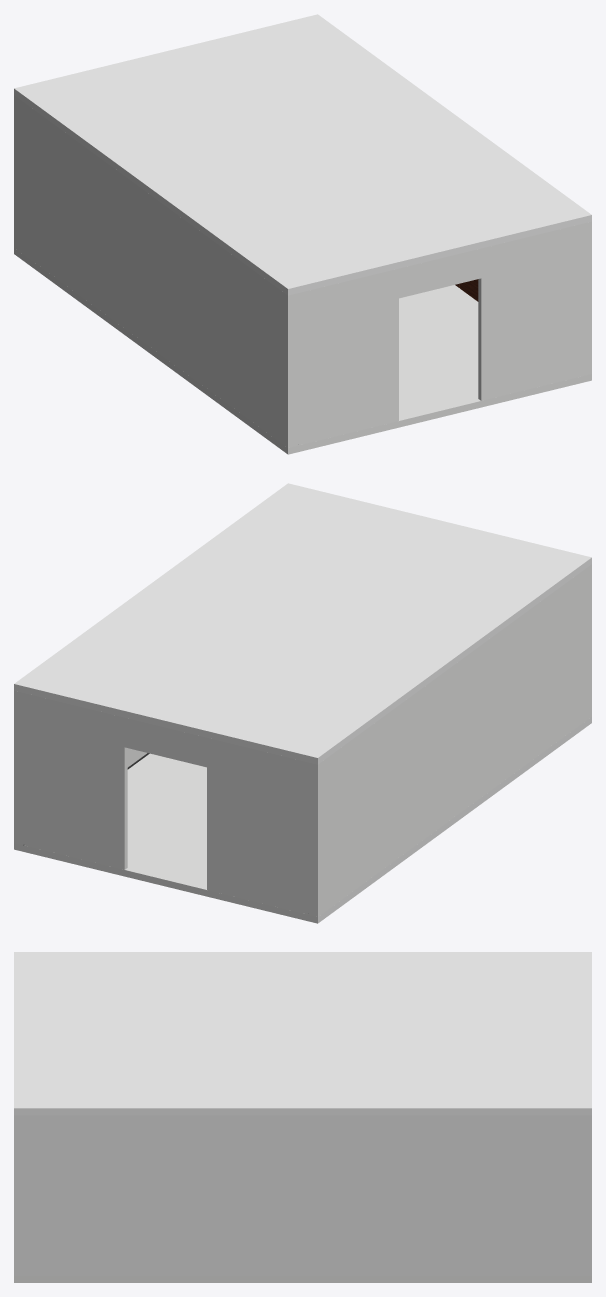
Rendered from room_door_s1.glb.
3 renders of one model, top to bottom at view 1: azimuth 30°, elevation 25°; view 2: azimuth 150°, elevation 25°; view 3: azimuth 270°, elevation 25°, orthographic. The views are drawn at different scales.
Parts seen in each view (by area): view 1: room_door_s1_static; view 2: room_door_s1_static; view 3: room_door_s1_static.
Part boxes in pixels (x1,y1,x2,y2): room_door_s1_static: [14, 14, 591, 454]; room_door_s1_static: [14, 483, 591, 923]; room_door_s1_static: [14, 952, 591, 1282].
Bounding box in the file's own units: 9.6 × 5 × 15.
12 materials, 2 textured.
